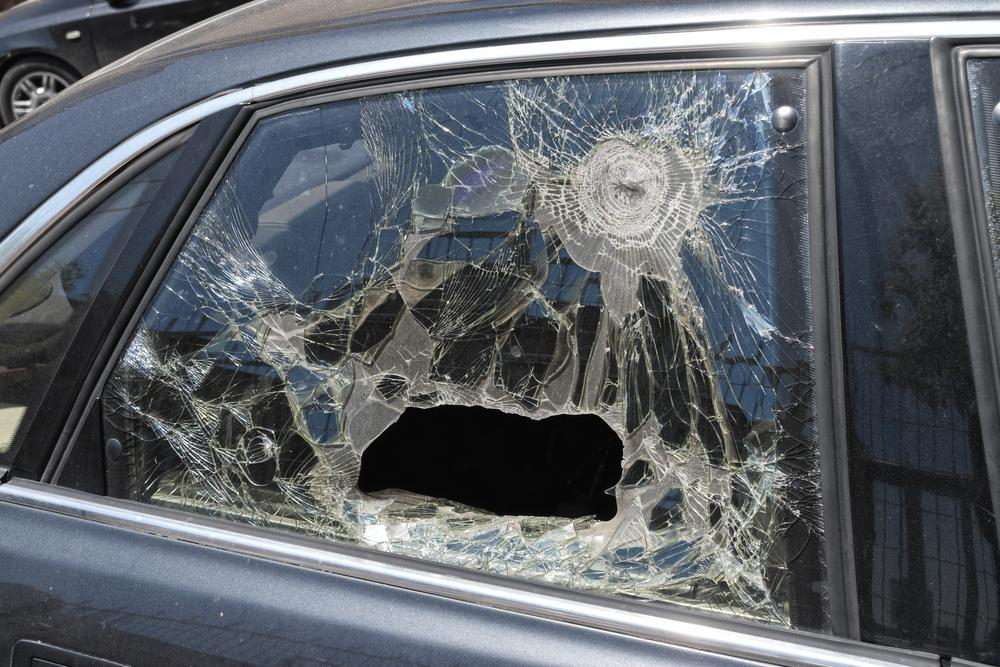glass shatter: (101, 68, 830, 635)
